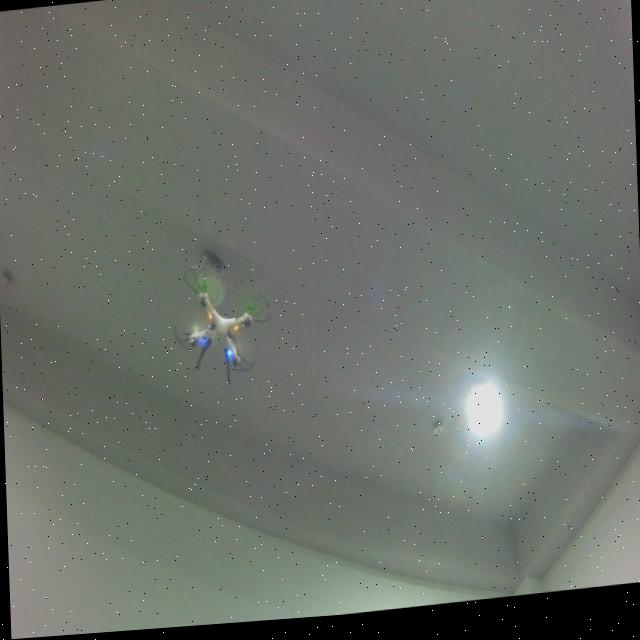drone: (170, 259, 276, 396)
